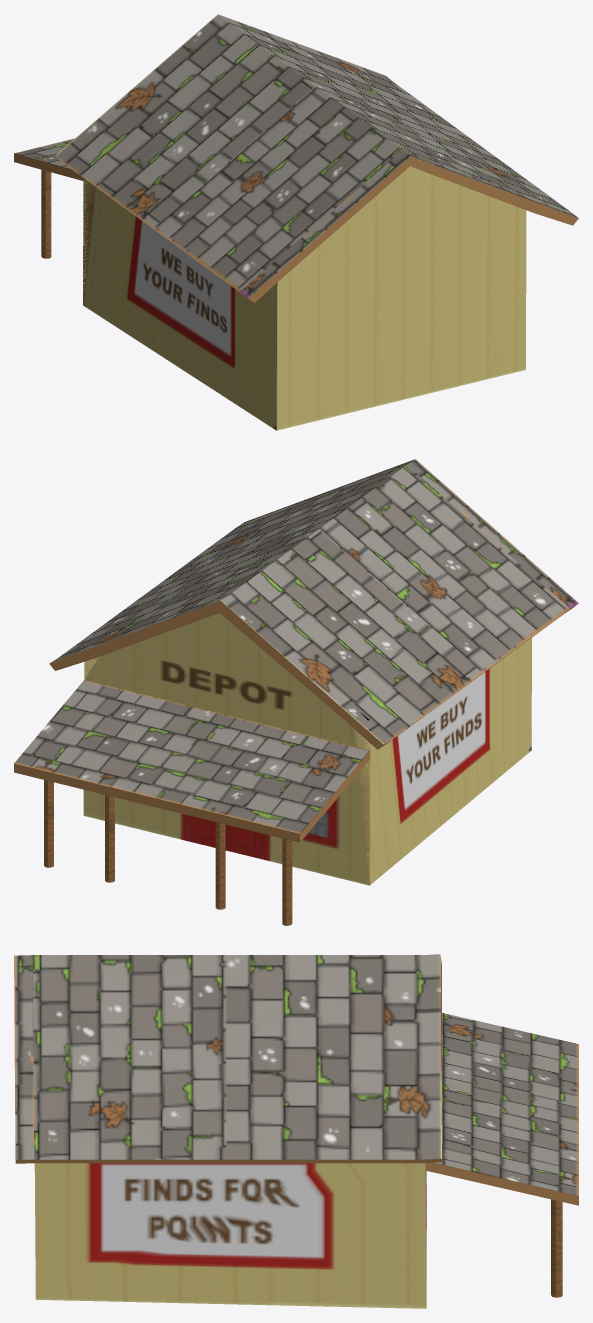
The model's file is depot-model-1.glb.
3 renders of one model, top to bottom at view 1: azimuth 30°, elevation 25°; view 2: azimuth 150°, elevation 25°; view 3: azimuth 270°, elevation 25°, orthographic. The views are drawn at different scales.
Parts seen in each view (by area): view 1: Cube; view 2: Cube; view 3: Cube.
Boxes of the visible parts, x1=… form: Cube: x1=14, y1=14, x2=578, y2=430; Cube: x1=14, y1=459, x2=578, y2=925; Cube: x1=14, y1=954, x2=578, y2=1308.
Bounding box in the file's own units: 6.04 × 4.4 × 8.09.
Materials: 1 (1 with a texture image).
